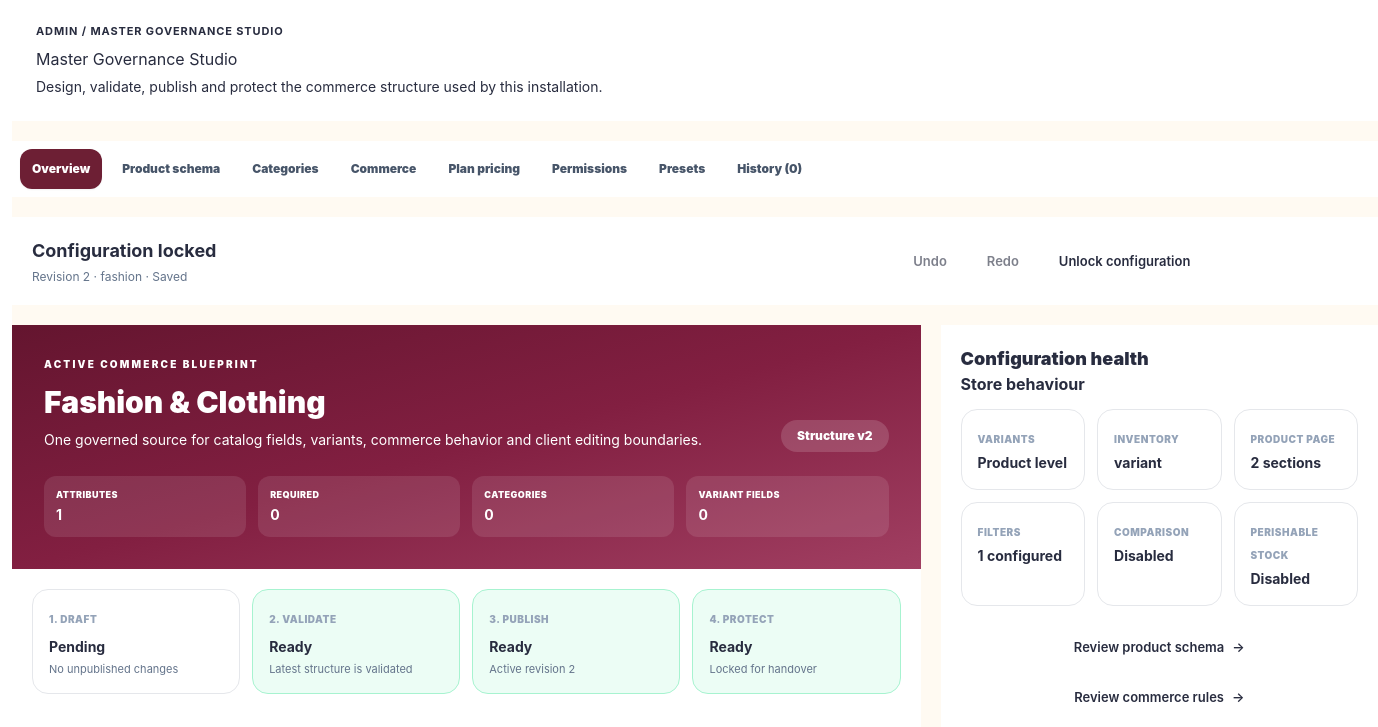
Test: locked configuration protects schema and template import while project generation stays available
Expected: the heading "Configuration locked" is shown, x1=32 y1=237 x2=216 y2=265
Click the button "Product schema": x=171, y=169 x1=110 y1=149 x2=232 y2=189
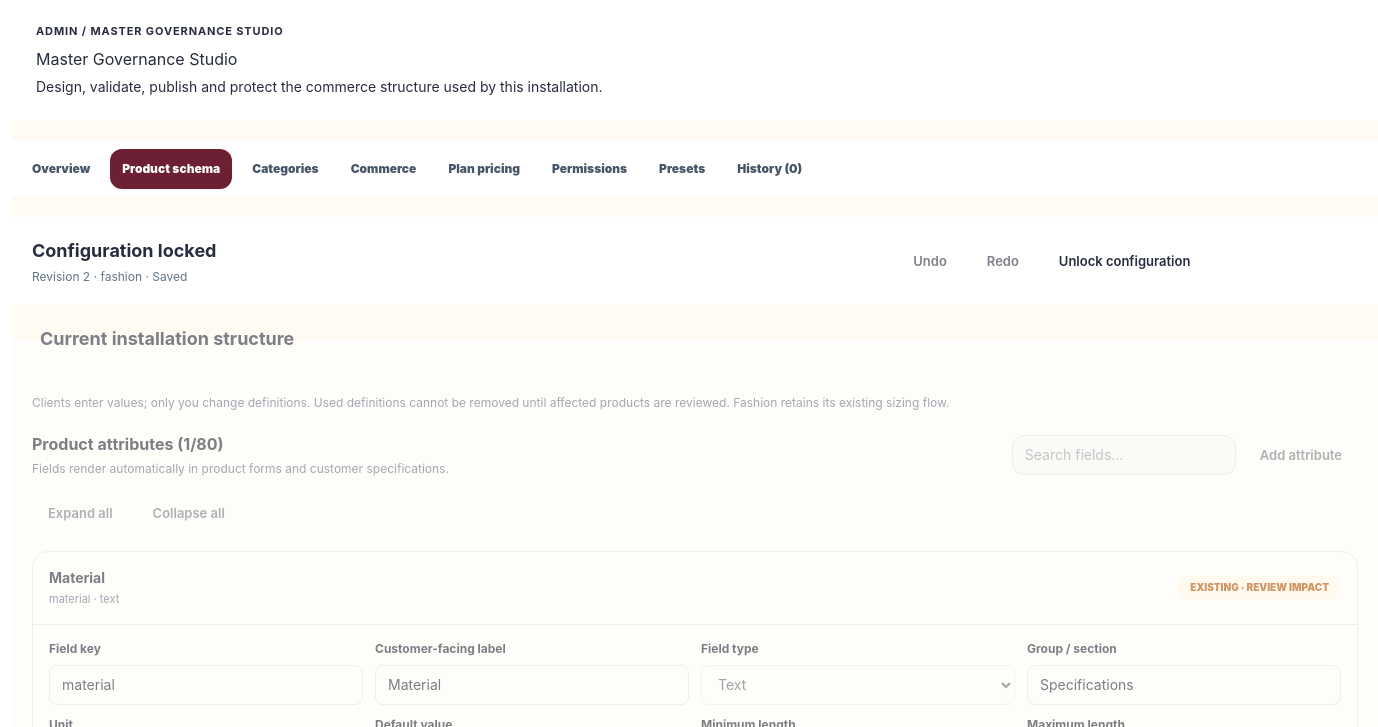
Expected: the field labelled "Field key" is disabled, x1=49 y1=664 x2=363 y2=704
Click the button "Presets": x=682, y=169 x1=647 y1=149 x2=717 y2=189
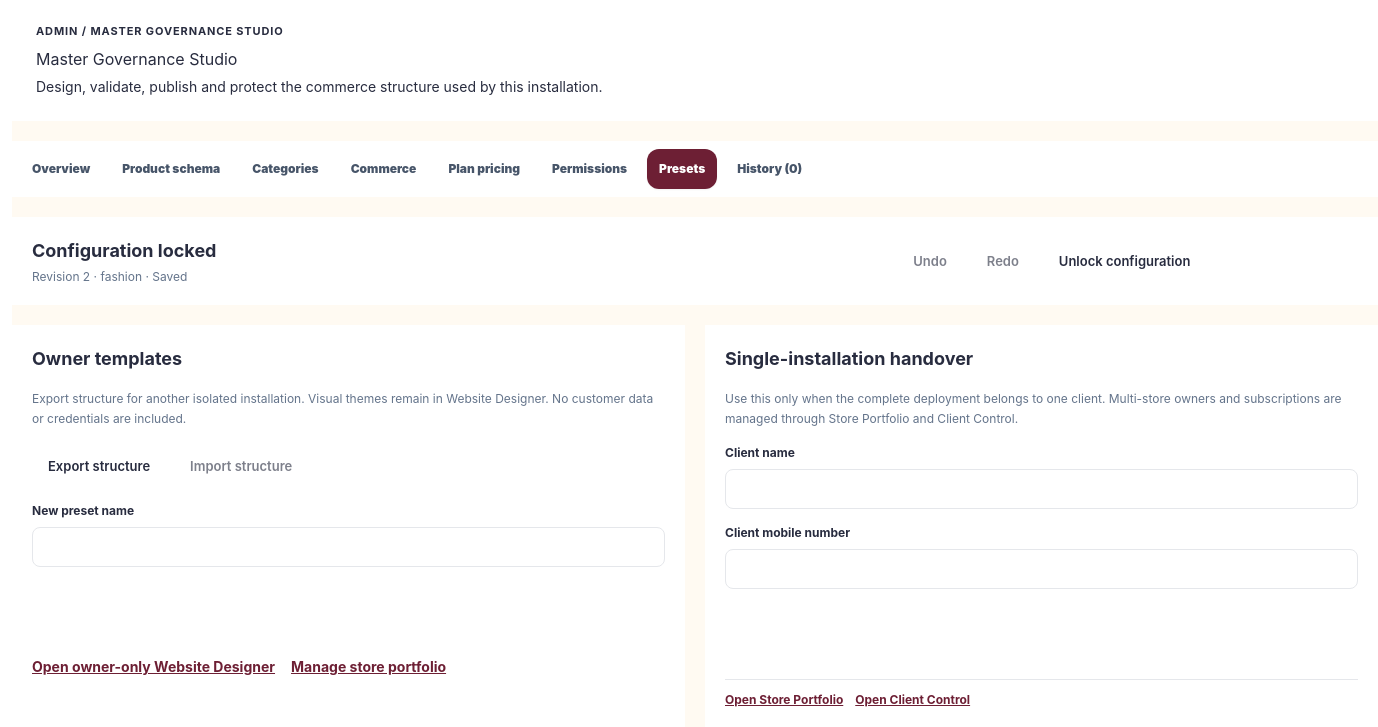
Expected: the button "Import structure" is disabled, x1=174 y1=445 x2=308 y2=487
